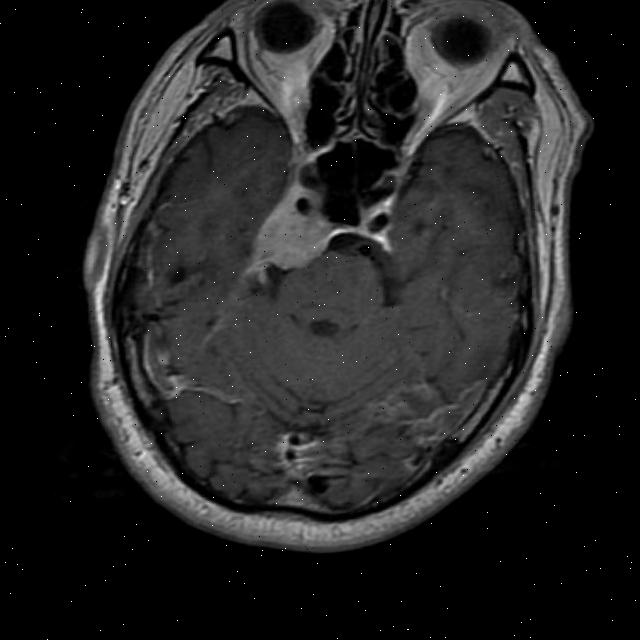Meningioma: (242, 180, 332, 286)
